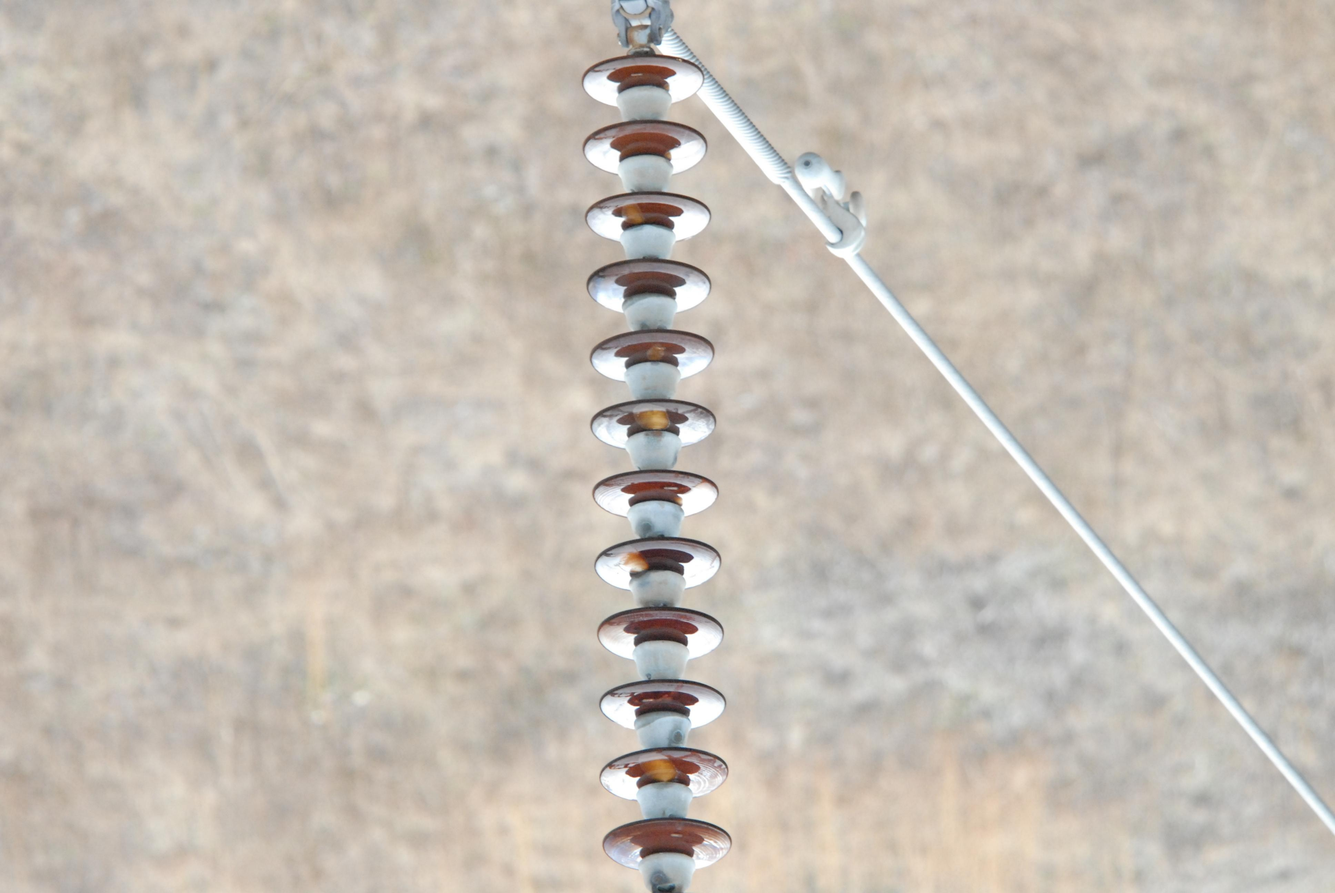Flashover: (638, 749, 682, 785), (631, 402, 673, 437), (615, 547, 649, 577), (618, 198, 650, 225), (643, 337, 671, 366)
hammer: (786, 140, 874, 258)
insulator: (583, 53, 732, 879)
